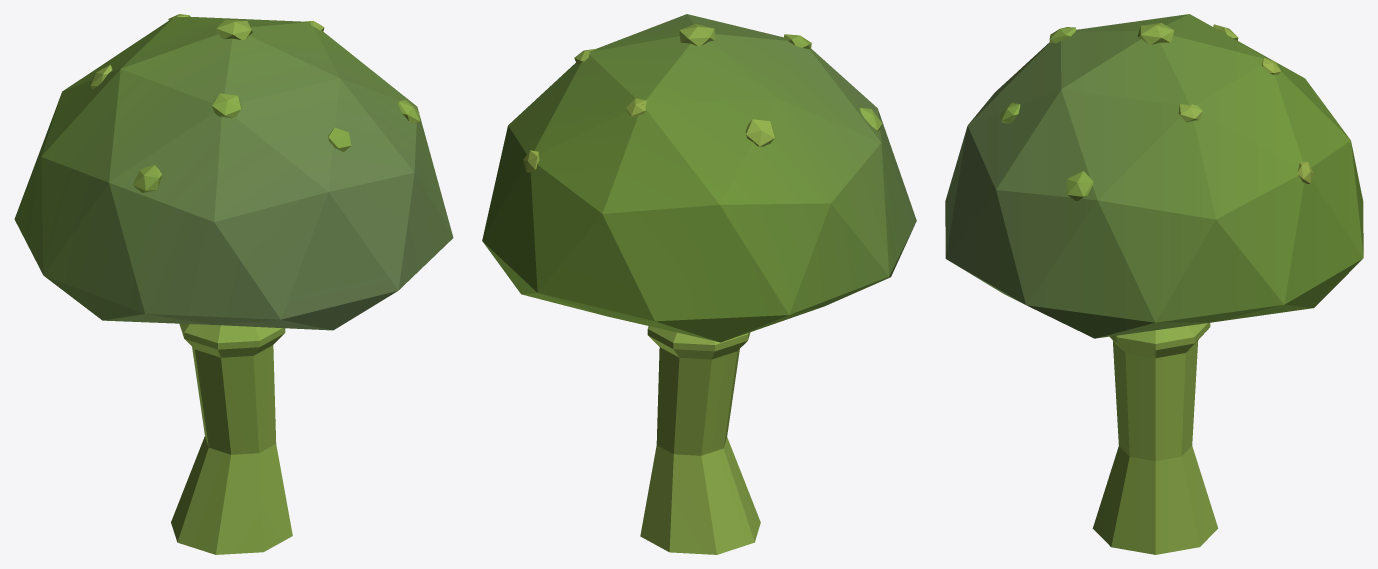
Rendered from Mushroom_10.fbx.
3 views of the same model, side by side, from view 1: azimuth 30°, elevation 25°; view 2: azimuth 150°, elevation 25°; view 3: azimuth 270°, elevation 25° (orthographic).
Visible parts, largest first — view 1: Mushroom_10; view 2: Mushroom_10; view 3: Mushroom_10.
Part boxes in pixels (box(x1,y1,x2,y2)): Mushroom_10: box(14, 14, 453, 554); Mushroom_10: box(482, 14, 916, 554); Mushroom_10: box(945, 14, 1363, 554).
Size of the model in its own units: 0.8647 by 1.1 by 0.8235.
